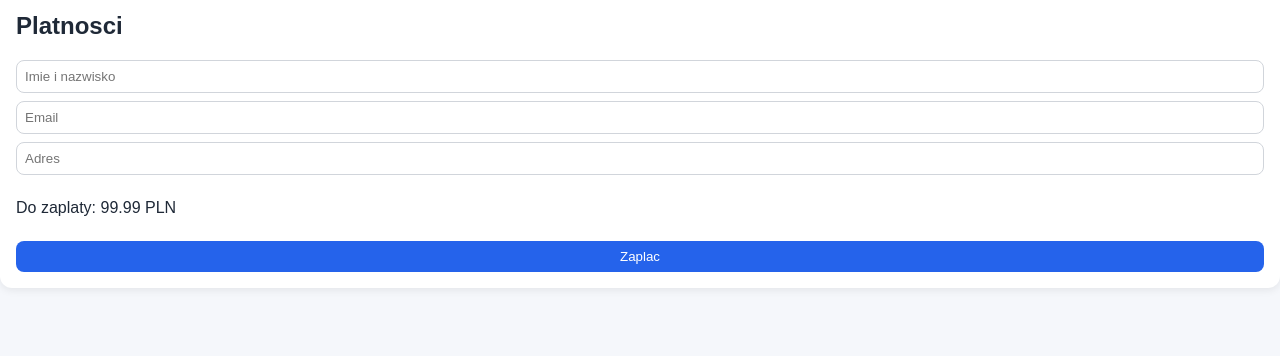
Scenario: Platnosci › wysyla platnosc do API
Type "Jan Kowalski" into the field with placeholder "Imie i nazwisko" at (640, 76), box [16,60,1264,93]
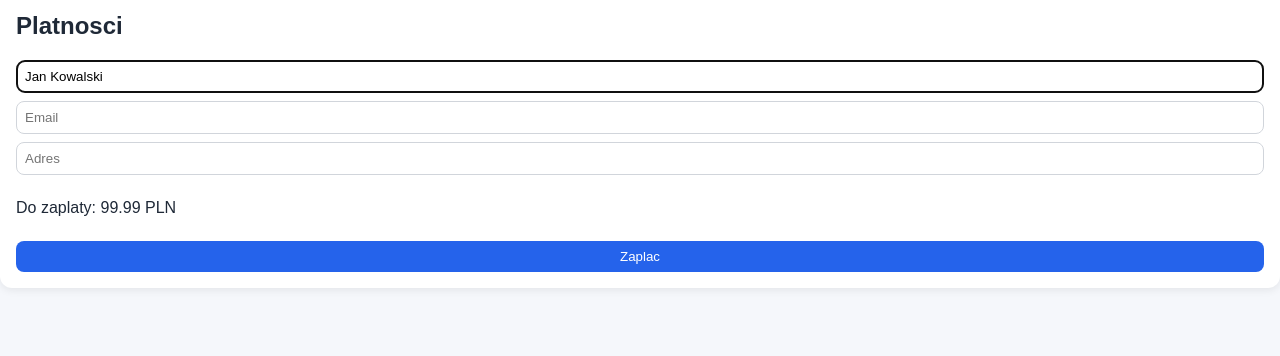
Type "jan@example.com" into the field with placeholder "Email" at (640, 117), box [16,101,1264,134]
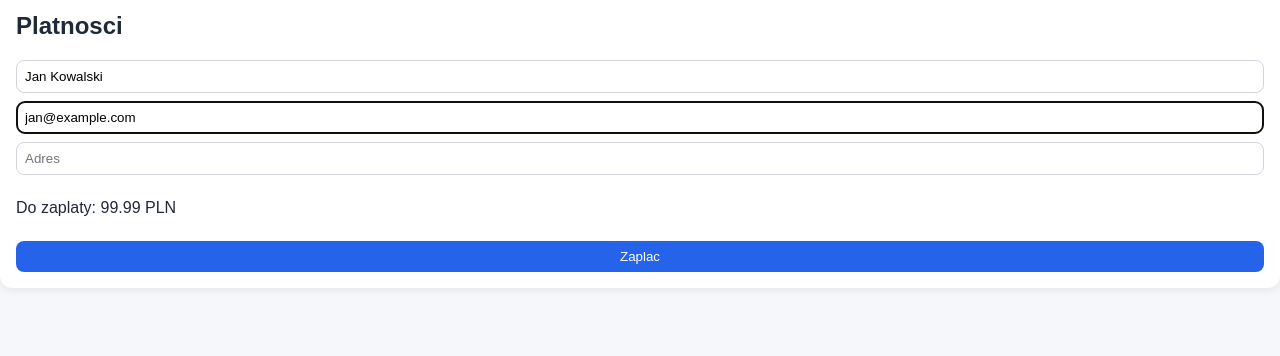
Type "ul. Testowa 1" into the field with placeholder "Adres" at (640, 158), box [16,142,1264,175]
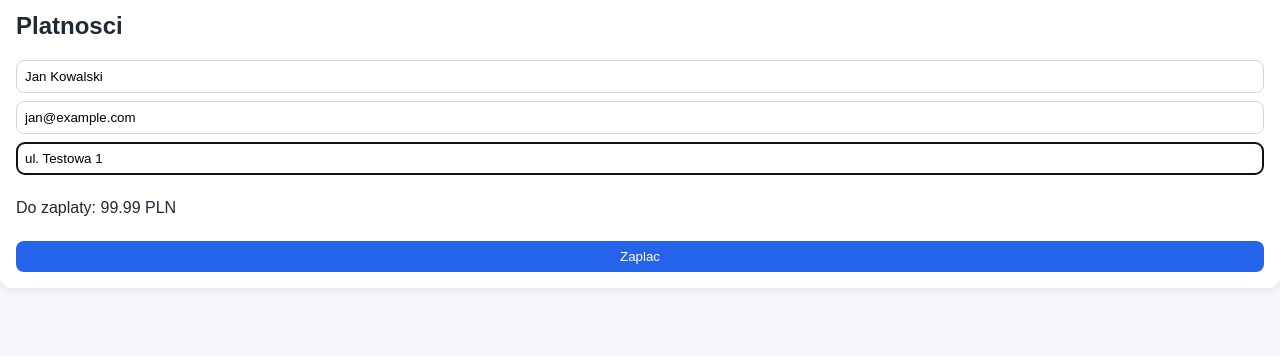
Click the button "Zaplac" at (640, 256), box [16,241,1264,272]
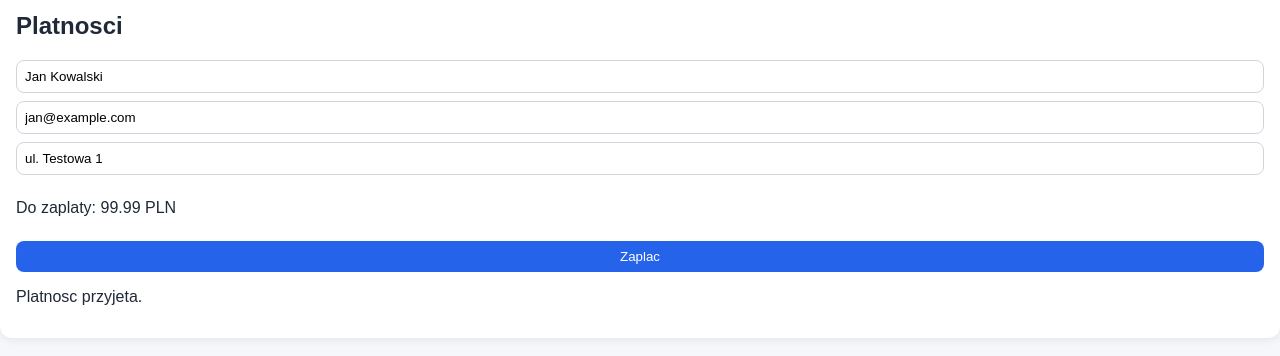
Now the text "Platnosc przyjeta." is shown, box [16,288,142,305]
